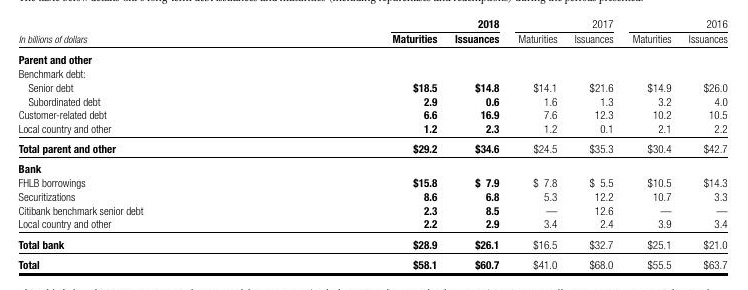table: (0, 0, 748, 290)
